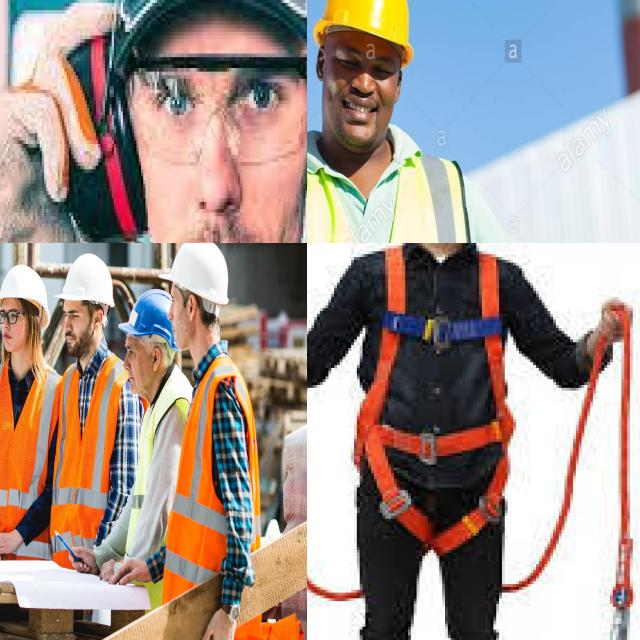Ear-protection: (26, 0, 307, 236)
Harness: (357, 245, 518, 555)
No_Ear-Protection: (312, 41, 331, 86), (91, 306, 108, 332), (186, 292, 199, 322), (150, 345, 164, 372)
No_Glasses: (332, 43, 400, 84), (60, 305, 88, 324), (124, 339, 142, 362), (168, 288, 180, 312)
face_nomask: (317, 41, 402, 152), (160, 283, 202, 347), (120, 333, 156, 397), (60, 300, 97, 359), (0, 295, 30, 349)
glasses: (0, 308, 20, 328)
hand_noglove: (195, 604, 237, 640), (68, 540, 97, 586), (115, 563, 147, 594), (0, 521, 22, 562)
head_helmet: (309, 0, 414, 65), (157, 243, 229, 306), (54, 253, 115, 307), (0, 264, 50, 327), (118, 288, 171, 340)
person: (307, 0, 556, 243), (167, 243, 263, 640), (54, 259, 125, 570), (0, 263, 52, 561), (123, 293, 175, 552)
vest: (162, 352, 262, 620), (307, 131, 477, 243), (56, 351, 123, 562), (0, 357, 60, 562), (134, 368, 195, 564)
